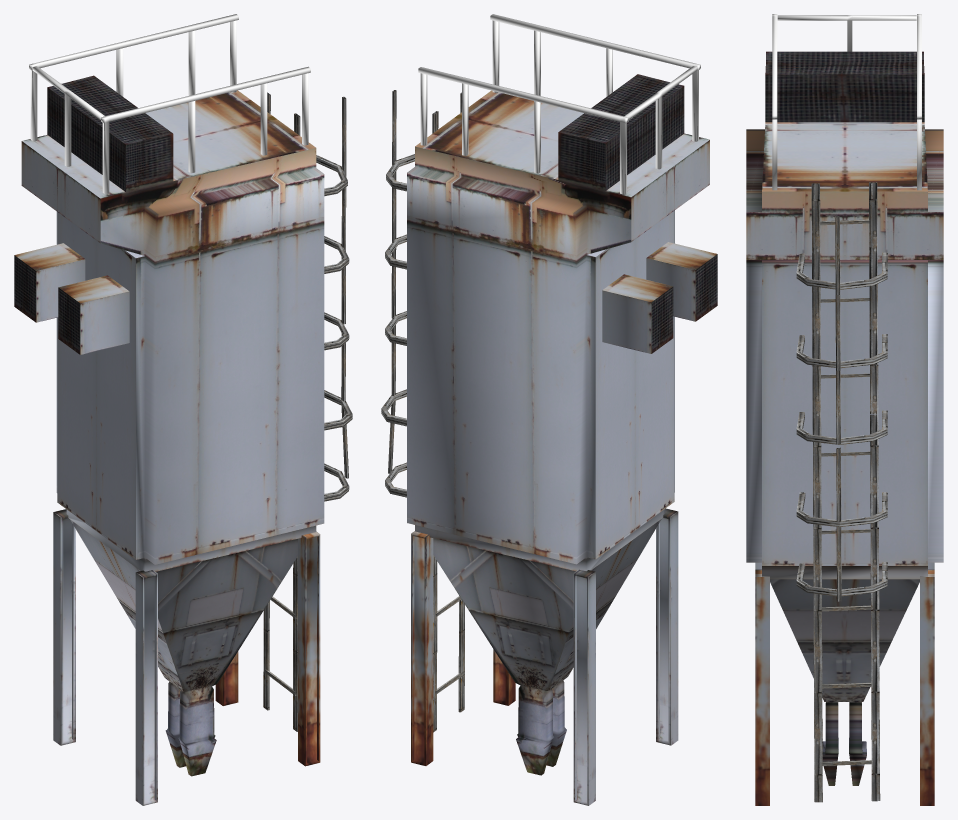
The model's file is industrial21.obj.
3 views of the same model, side by side, from view 1: azimuth 30°, elevation 25°; view 2: azimuth 150°, elevation 25°; view 3: azimuth 270°, elevation 25° (orthographic).
Visible parts, largest first — view 1: industrial21, Form1; view 2: industrial21, Form1; view 3: industrial21, Form1.
Part boxes in pixels (x1,y1,x2,y2): industrial21: [14, 14, 352, 805]; Form1: [316, 155, 349, 501]; industrial21: [381, 14, 717, 805]; Form1: [385, 154, 414, 497]; industrial21: [746, 14, 943, 805]; Form1: [796, 252, 887, 596].
Size of the model in its own units: 105 by 239 by 60.24.
Materials: 3 (2 with a texture image).
